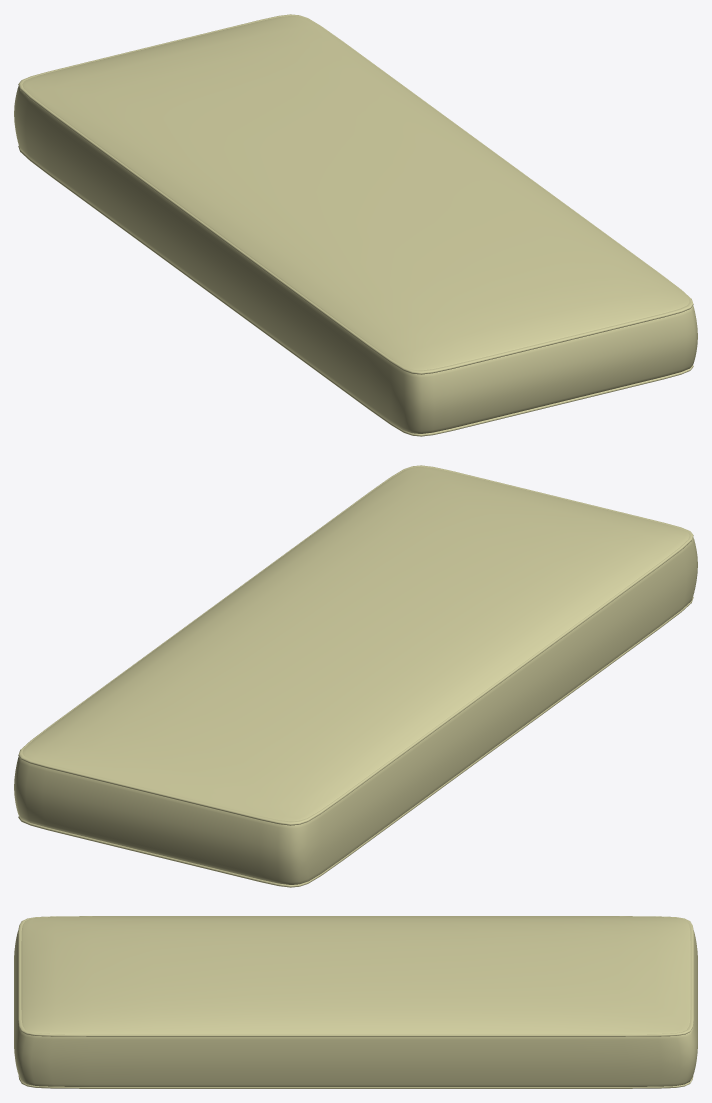
File: windowSeatCushion.glb
3 renders of one model, top to bottom at view 1: azimuth 30°, elevation 25°; view 2: azimuth 150°, elevation 25°; view 3: azimuth 270°, elevation 25°, orthographic. The views are drawn at different scales.
Parts seen in each view (by area): view 1: cushion, welting; view 2: cushion, welting; view 3: cushion, welting.
Part boxes in pixels (bbox=[...]): cushion: bbox=[14, 15, 697, 433]; welting: bbox=[18, 14, 693, 436]; cushion: bbox=[14, 466, 697, 884]; welting: bbox=[18, 465, 693, 887]; cushion: bbox=[14, 916, 697, 1086]; welting: bbox=[18, 916, 693, 1088].
Bounding box in the file's own units: 1.31 × 0.3357 × 3.13.
